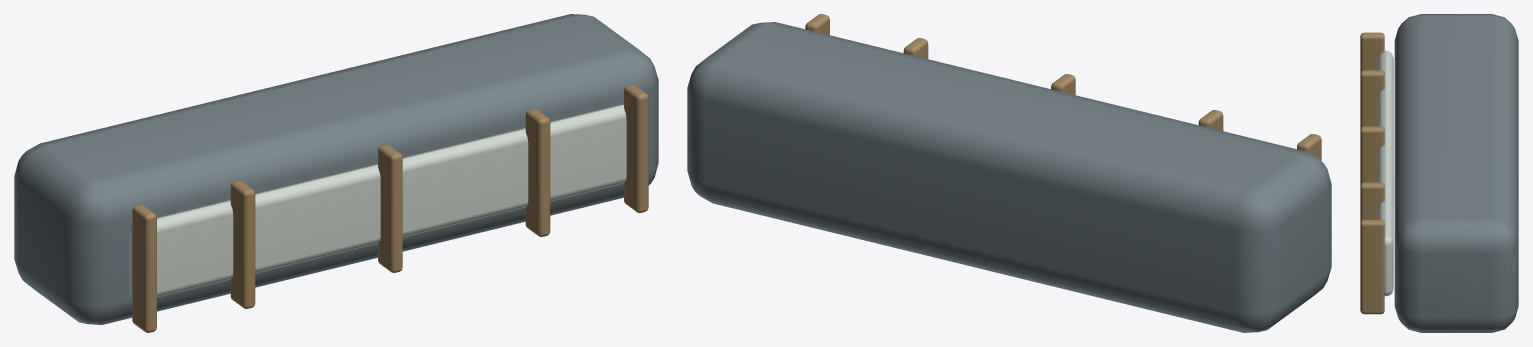
File: practical_fixture.fbx
3 renders of one model, left to right at view 1: azimuth 30°, elevation 25°; view 2: azimuth 150°, elevation 25°; view 3: azimuth 270°, elevation 25°, orthographic. The views are drawn at different scales.
Parts seen in each view (by area): view 1: practical_fixture; view 2: practical_fixture; view 3: practical_fixture.
Boxes of the visible parts, x1=… form: practical_fixture: x1=14, y1=14, x2=658, y2=332; practical_fixture: x1=687, y1=14, x2=1331, y2=332; practical_fixture: x1=1360, y1=14, x2=1518, y2=332.
Bounding box in the file's own units: 120 × 28 × 35.75.
